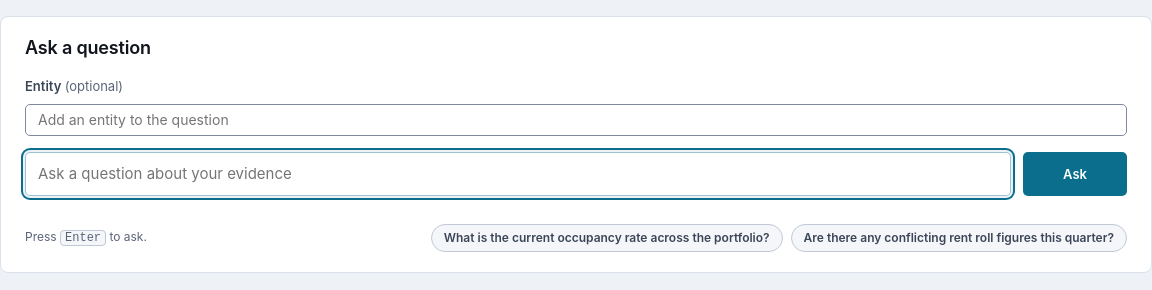
Test: AnswerComposer › offers the tenant own entities and inserts the chosen name into the draft
Type "What is the cap rate for" into the field labelled "question" at (518,174), box [25,152,1011,196]
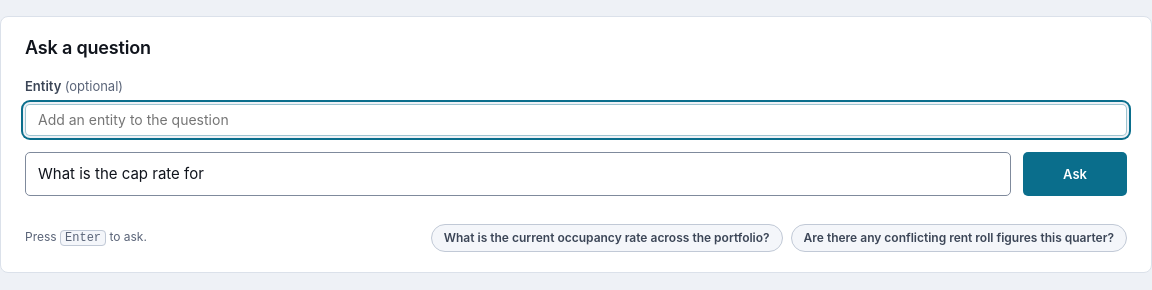
Focus the dropdown labelled "Entity (optional)" at (576,120), box [25,104,1127,136]
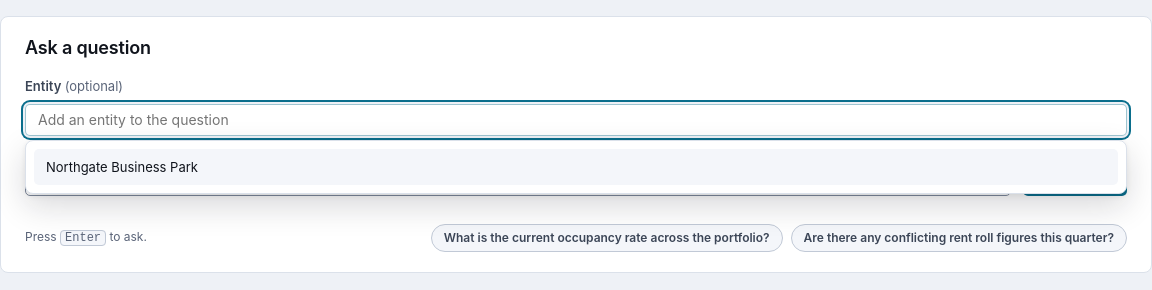
Expected: the option "Northgate Business Park" is shown, [34,149,1118,185]
Press Enter in the dropdown labelled "Entity (optional)", box [25,104,1127,136]
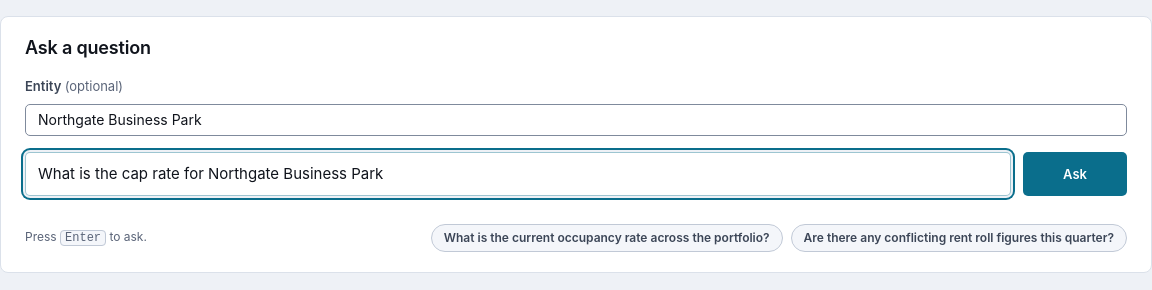
Expected: the field named "question" holds "What is the cap rate for Northgate Business Park", [25,152,1011,196]
